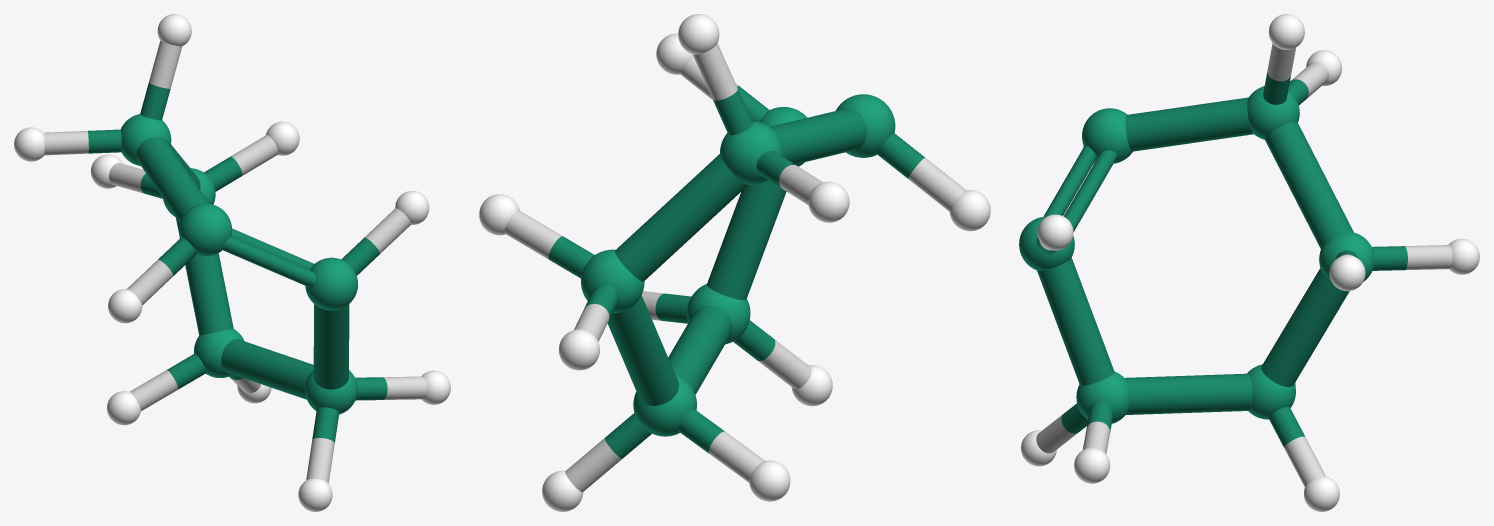
Rendered from TRANSCYCLOHEXENE.MOL2.gltf.
The picture shows the model from 3 angles, left to right: view 1: azimuth 30°, elevation 25°; view 2: azimuth 150°, elevation 25°; view 3: azimuth 270°, elevation 25°; orthographic projection. The views are drawn at different scales.
Parts seen in each view (by area): view 1: Node #1, Node #0; view 2: Node #1, Node #0; view 3: Node #1, Node #0.
Boxes of the visible parts, x1,y1,x2,y2 form: Node #1: (43,41,427,483); Node #0: (14,14,450,511); Node #1: (504,43,966,492); Node #0: (479,14,990,511); Node #1: (1036,43,1452,486); Node #0: (1019,14,1479,511).
Bounding box in the file's own units: 3.71 × 4.48 × 4.21.
